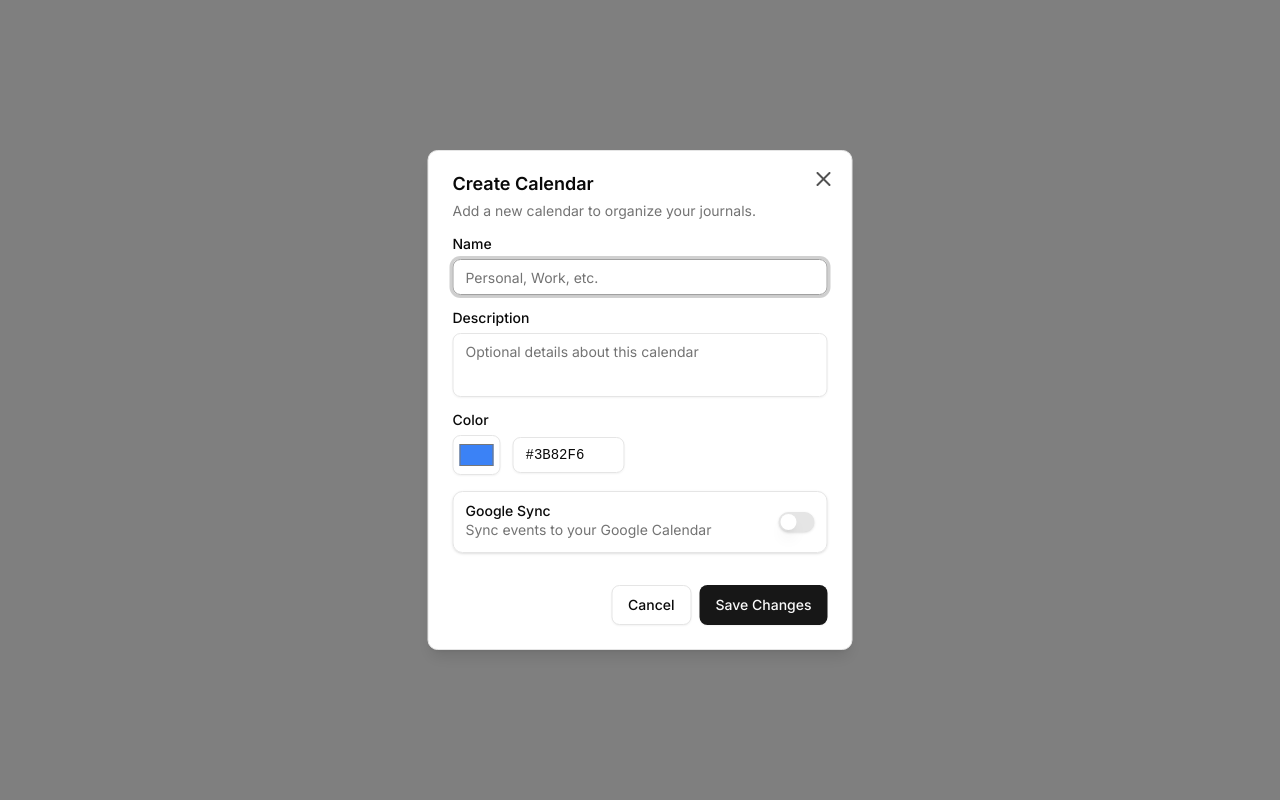
Test: CalendarSettingsDialog › read-only Google calendars › does not promise full event detail it cannot guarantee
Click the switch with test id "google-sync-toggle".
click(796, 522)  # box [778,512,814,532]
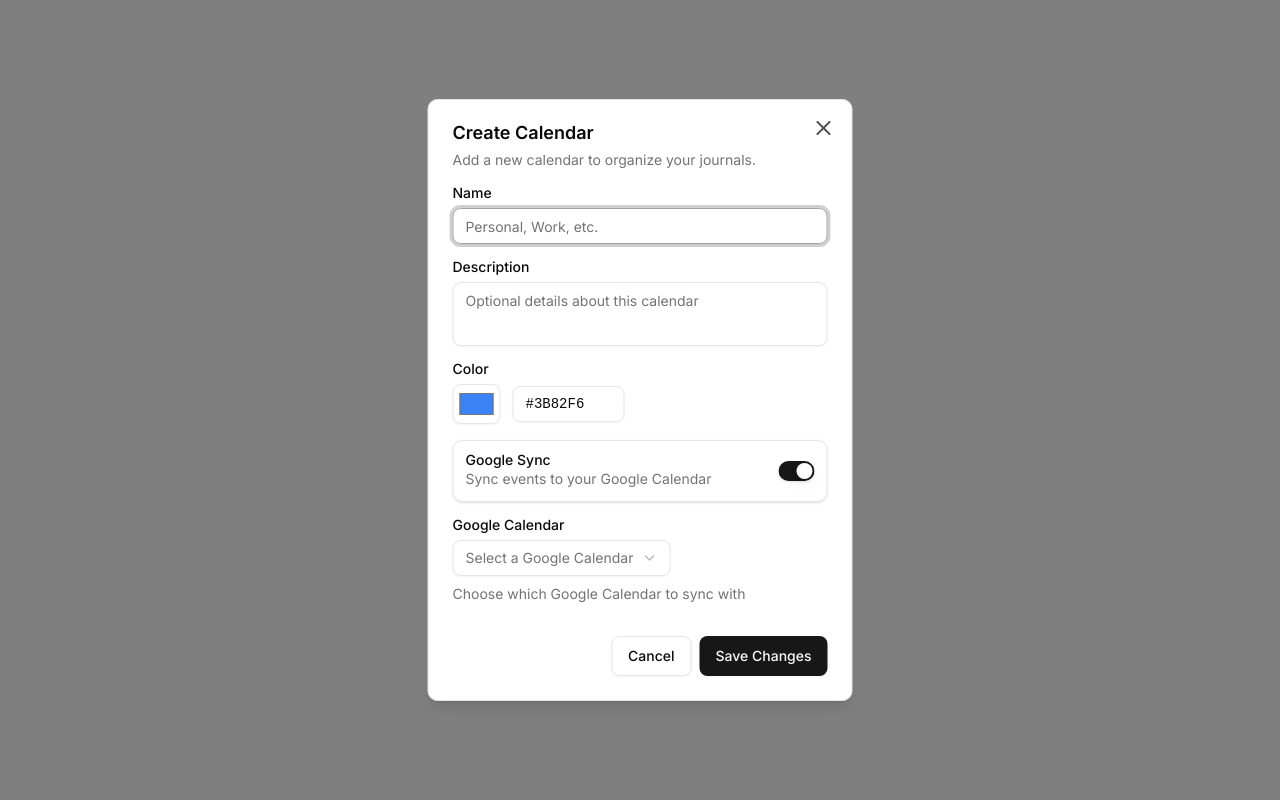
Click the dropdown with test id "google-calendar-select".
click(562, 558)  # box [452,540,670,576]
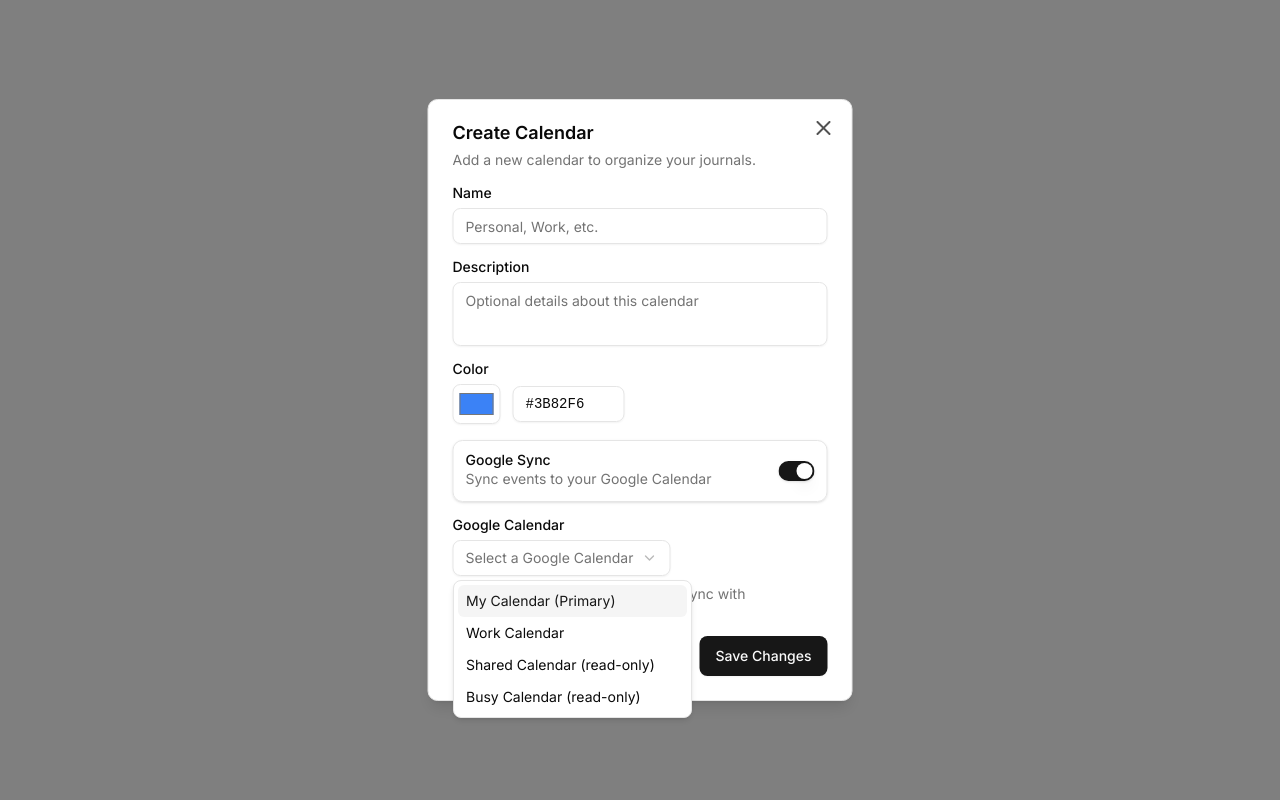
Click the option "Busy Calendar (read-only)".
click(553, 696)  # box [466,688,641,705]
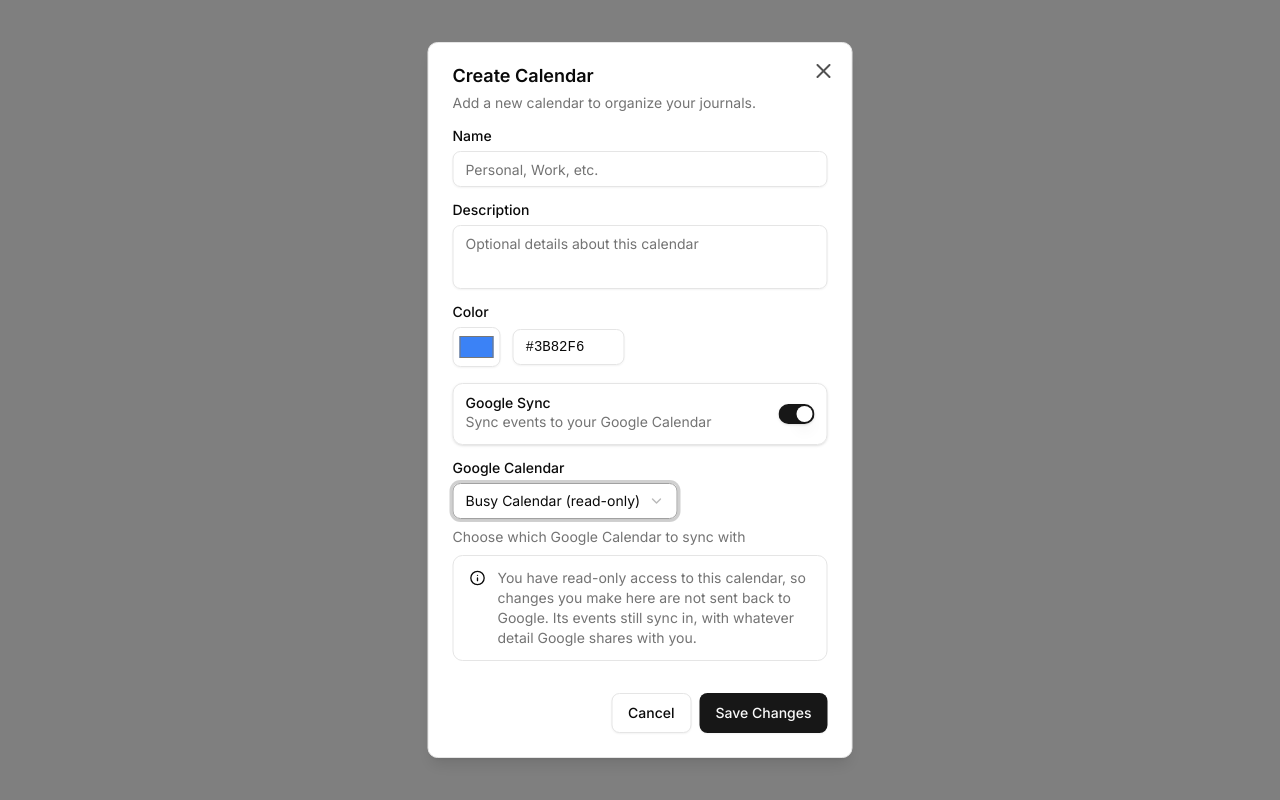
Now the message with test id "read-only-calendar-warning" shows "whatever detail Google shares", box [498,569,806,646]
